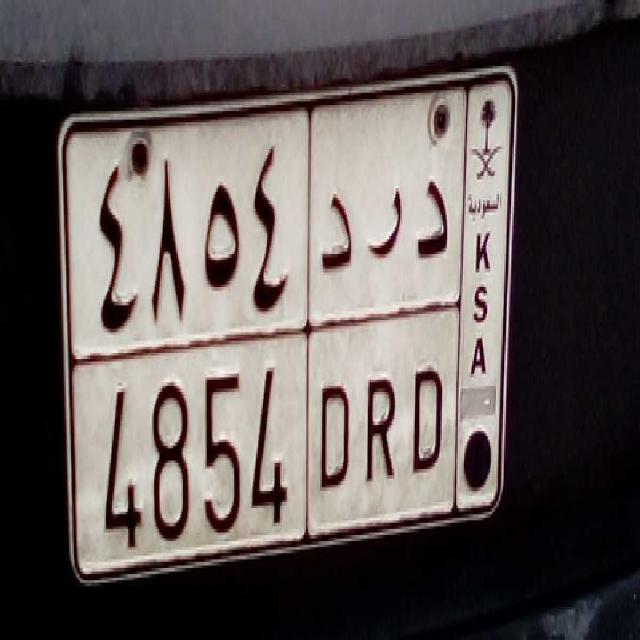license_plate: (83, 338, 457, 574)
